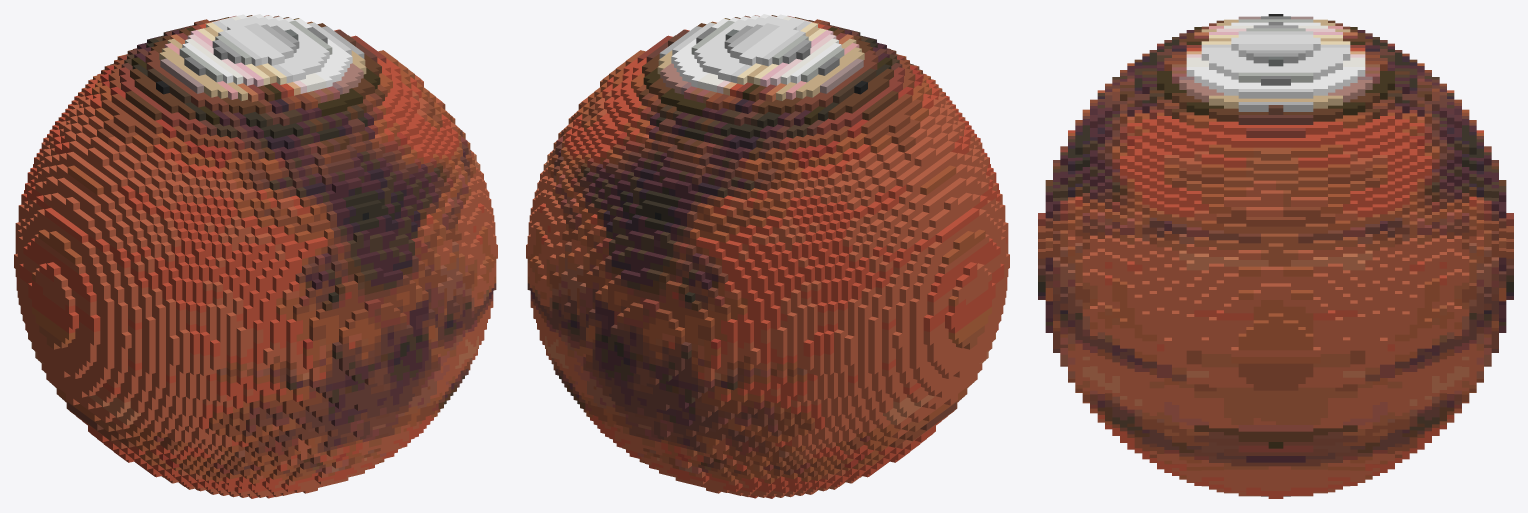
The model's file is mars.glb.
3 views of the same model, side by side, from view 1: azimuth 30°, elevation 25°; view 2: azimuth 150°, elevation 25°; view 3: azimuth 270°, elevation 25° (orthographic).
Visible parts, largest first — view 1: Voxel Mars; view 2: Voxel Mars; view 3: Voxel Mars.
Part boxes in pixels (x1,y1,x2,y2): Voxel Mars: [14, 14, 497, 498]; Voxel Mars: [526, 14, 1009, 498]; Voxel Mars: [1038, 14, 1513, 498].
Size of the model in its own units: 6.4 by 6.4 by 6.4.
Materials: 1 (1 with a texture image).
